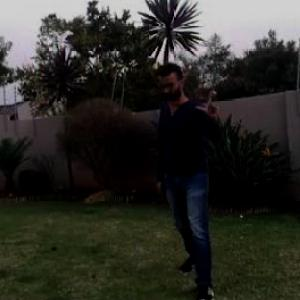land_hand: (186, 84, 223, 121)
